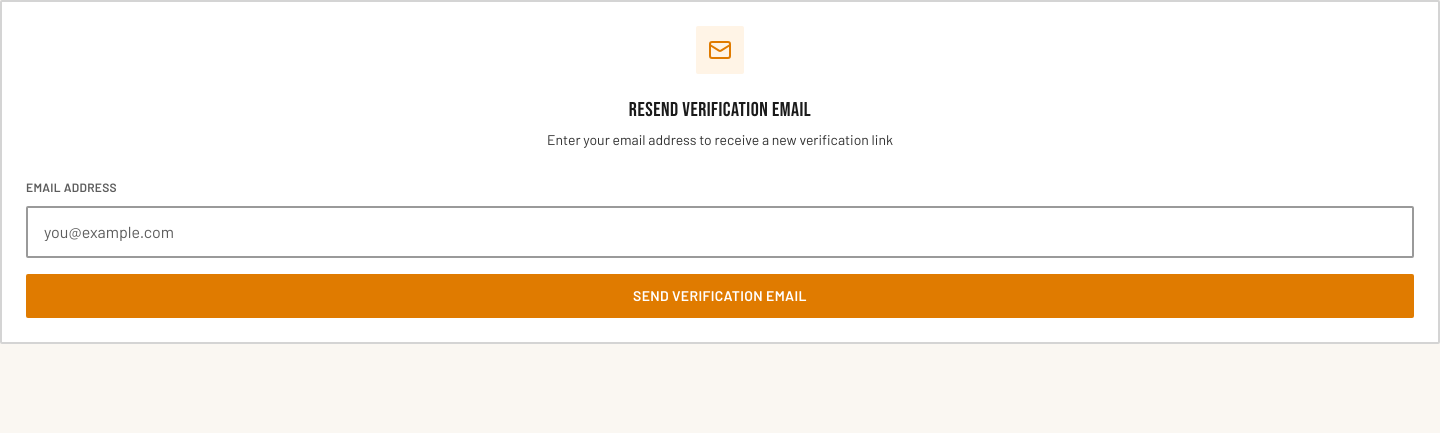
ResendVerificationForm › Form Submission - Rate Limit › should show rate limit error when API returns 429
The image size is (1440, 433).
Type "test@example.com" into the field labelled "Email Address" at (720, 232), box left=26, top=206, right=1414, bottom=258
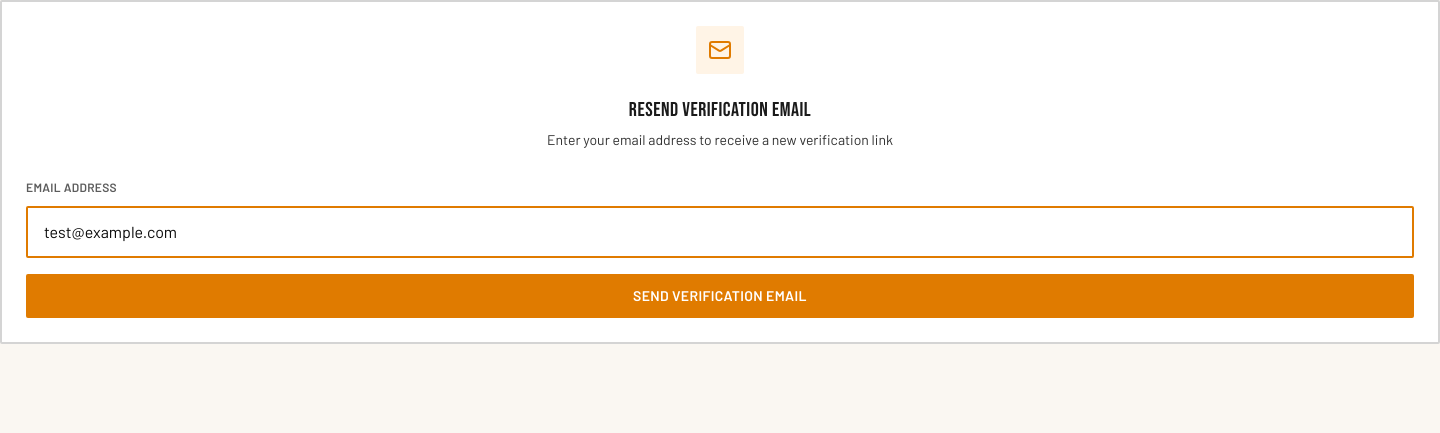
Click the button "Send verification email" at (720, 296), box left=26, top=274, right=1414, bottom=318
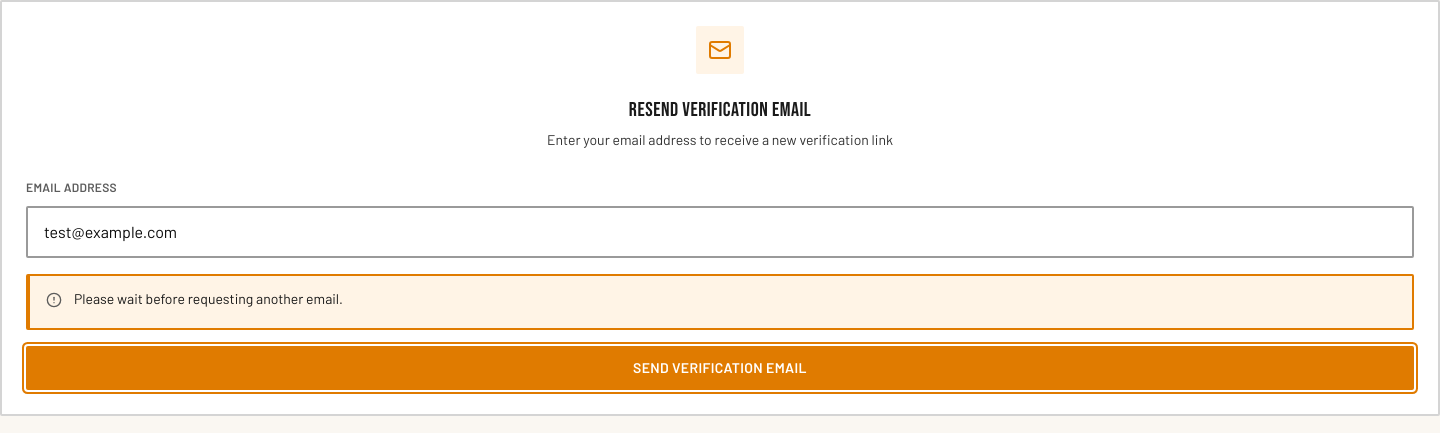
expect the text "Please wait before requesting another email." is shown: met, box left=74, top=290, right=343, bottom=307
